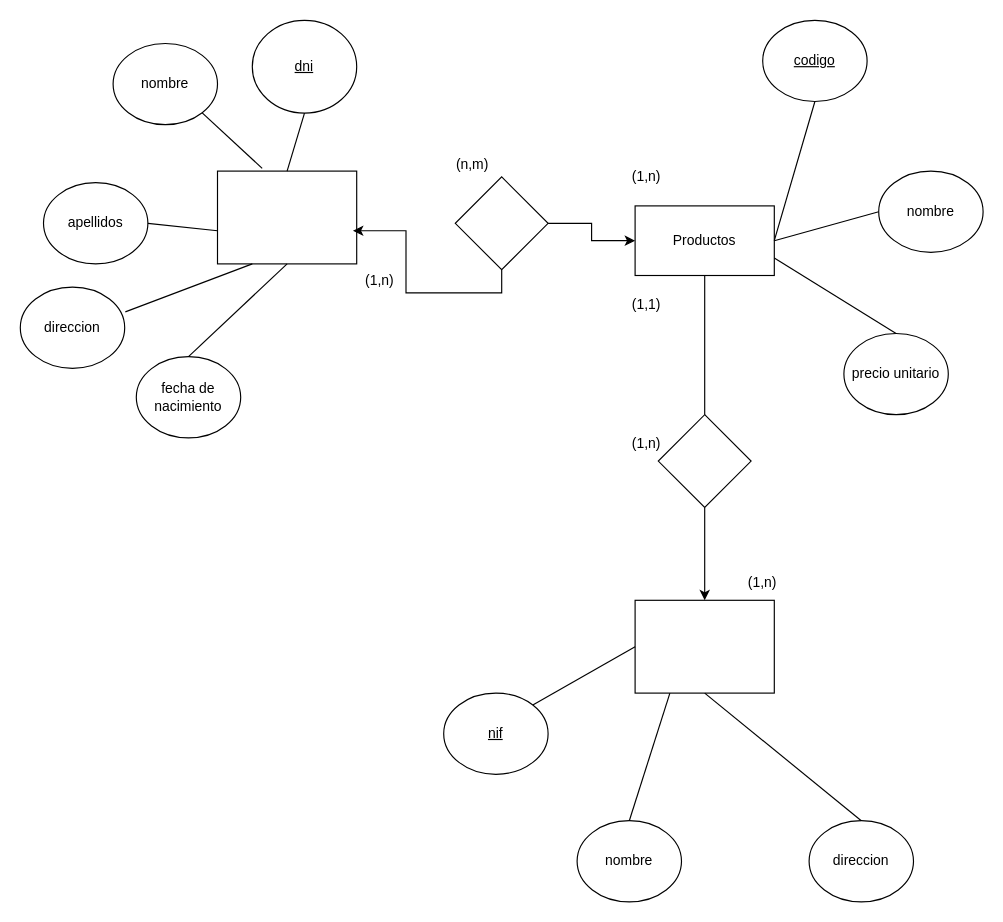
Image size: 1003x922. Some labels were removed from this diagram. Here are the shapes that lost their labels. From the top down, the box of each, then its label:
(216, 170, 357, 264): cliente
(454, 176, 548, 270): compra
(657, 414, 751, 507): vende
(634, 599, 774, 693): proveedor
